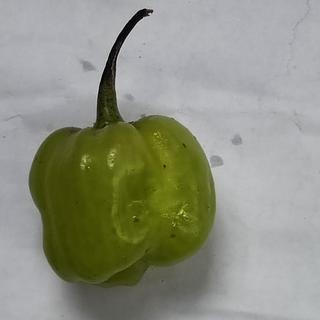Grade-B: (24, 112, 220, 291)
